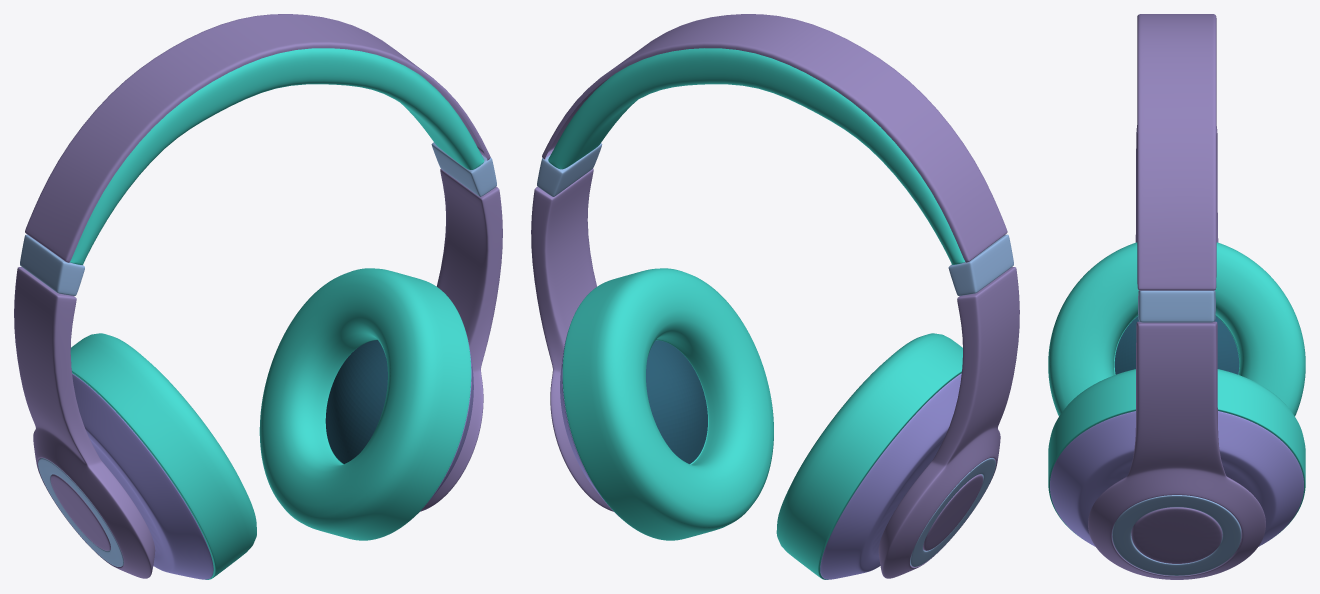
File: headset.fbx
3 renders of one model, left to right at view 1: azimuth 30°, elevation 25°; view 2: azimuth 150°, elevation 25°; view 3: azimuth 270°, elevation 25°, orthographic. The views are drawn at different scales.
Visible parts, largest first — view 1: Circle.002, Circle, Circle.005, Circle.006, Circle.001, Circle.003, Circle.004, Circle.007; view 2: Circle.002, Circle, Circle.005, Circle.006, Circle.001, Circle.003, Circle.004, Circle.007; view 3: Circle.002, Circle, Circle.005, Circle.001, Circle.007, Circle.004, Circle.003.
Boxes of the visible parts, box(x1,y1,x2,y2) form: Circle.002: box(70, 268, 471, 579); Circle: box(14, 169, 502, 578); Circle.005: box(25, 14, 490, 262); Circle.006: box(70, 48, 484, 264); Circle.001: box(72, 332, 473, 579); Circle.003: box(325, 340, 387, 463); Circle.004: box(20, 142, 496, 295); Circle.007: box(38, 458, 123, 566); Circle.002: box(562, 268, 962, 579); Circle: box(531, 169, 1019, 578); Circle.005: box(542, 14, 1007, 262); Circle.006: box(548, 48, 965, 264); Circle.001: box(560, 334, 961, 579); Circle.003: box(646, 340, 707, 463); Circle.004: box(537, 143, 1013, 295); Circle.007: box(910, 458, 995, 566); Circle.002: box(1048, 242, 1305, 535); Circle: box(1088, 125, 1265, 579); Circle.005: box(1137, 14, 1216, 290); Circle.001: box(1050, 411, 1303, 546); Circle.007: box(1112, 495, 1241, 575); Circle.004: box(1138, 290, 1215, 322); Circle.003: box(1114, 316, 1239, 374).
Size of the model in its own units: 1512 by 1658 by 784.
